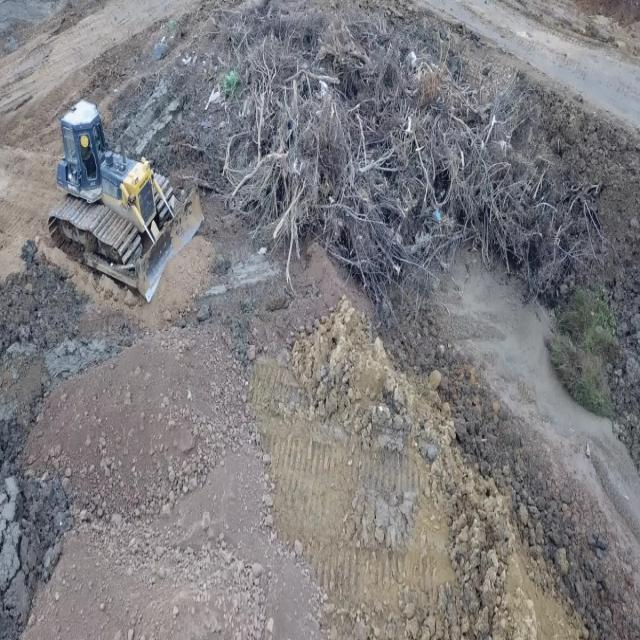machinery: (47, 98, 204, 303)
